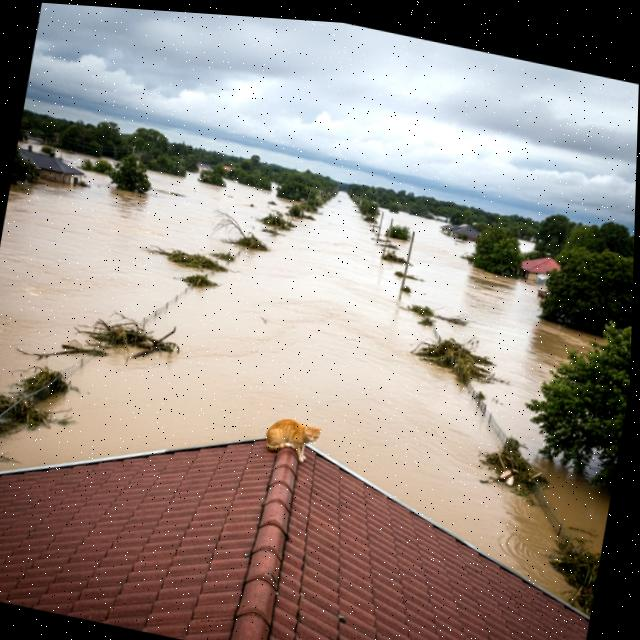cat: (253, 402, 331, 475)
